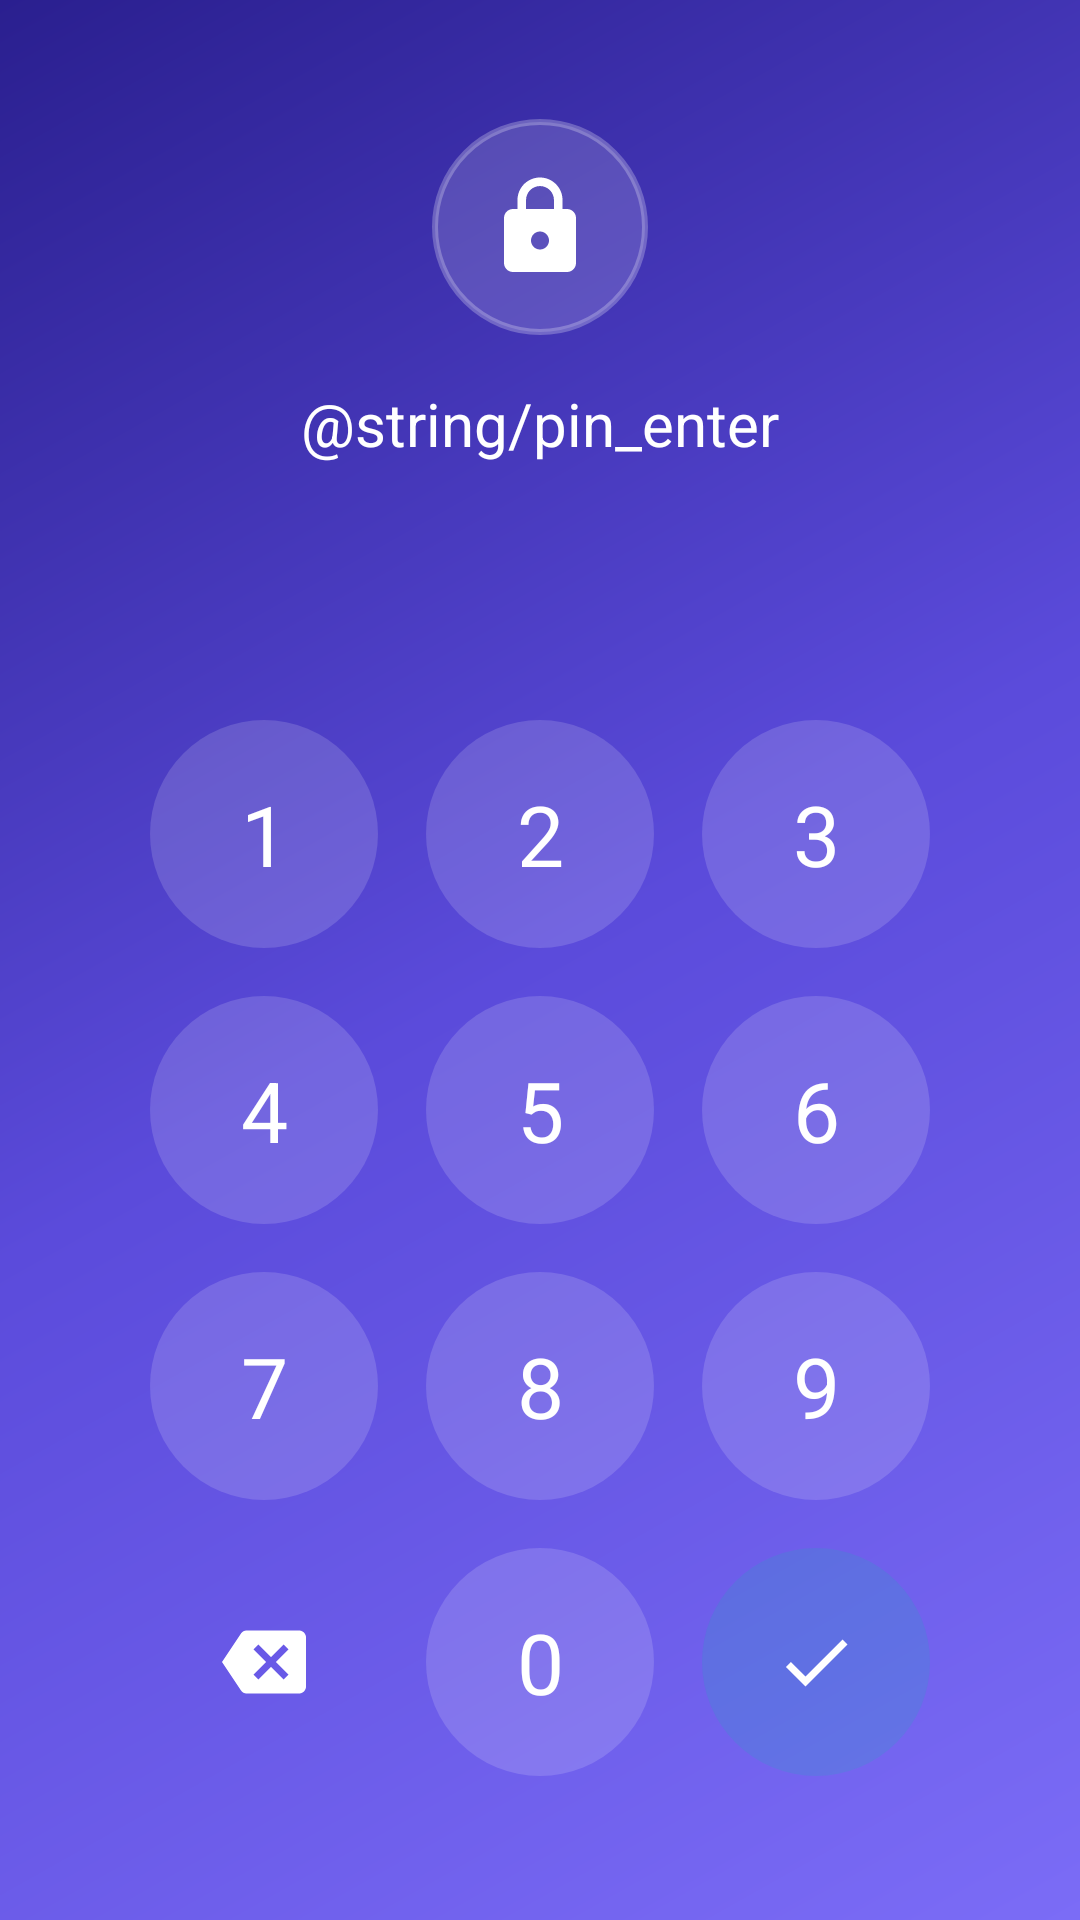

Icons on this 1080x1920 Android screen, each with its box as (x1, y1, x2, y2):
check: (702, 1548, 930, 1776)
Delete: (222, 1630, 306, 1694)
lock: (432, 119, 648, 335)
